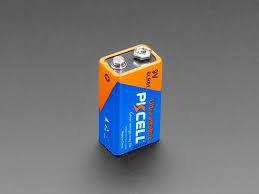9V: (95, 37, 165, 161)
